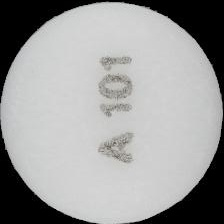43063-387: (0, 0, 224, 224)
